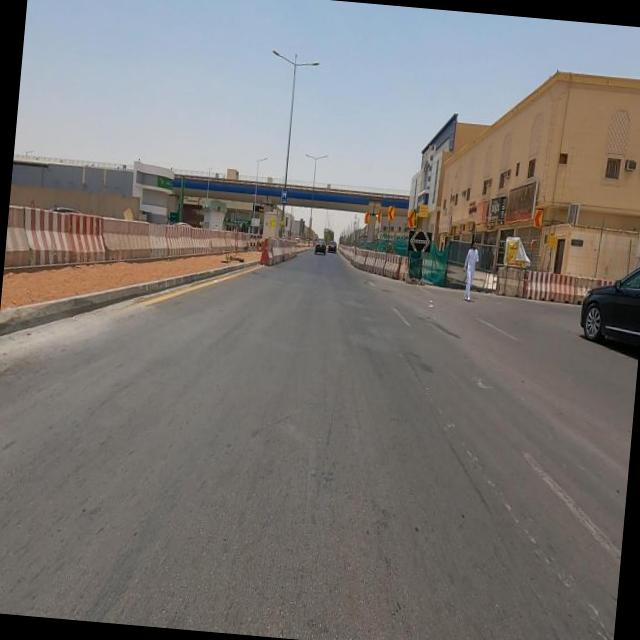debris: (482, 154, 560, 258)
